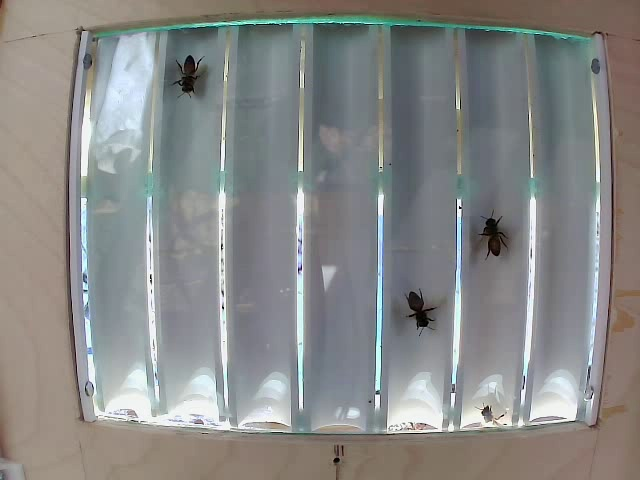bee: (401, 285, 447, 338), (167, 52, 198, 90), (479, 229, 509, 266)
